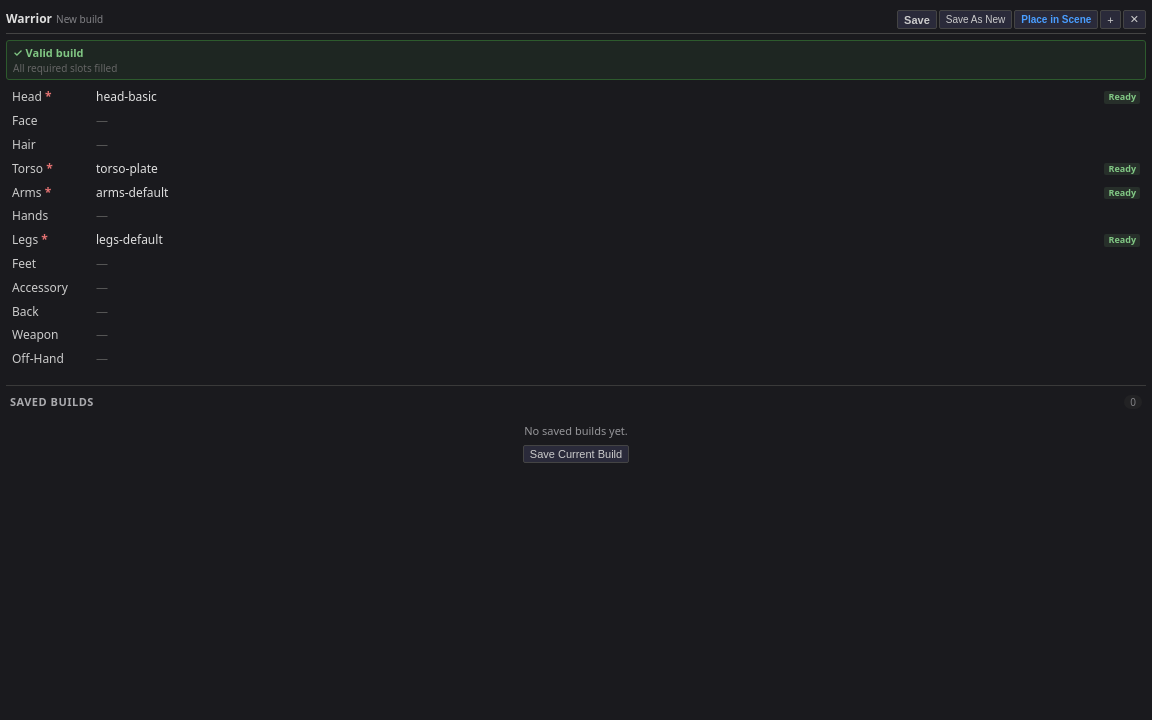
Scenario: selected slot detail › selecting a slot shows detail pane
The width and height of the screenshot is (1152, 720).
What coordinates should you click on to do the following:
click the element with test id "char-slot-head"
I would click on:
 (126, 97)
Its box is [6,86,1146,109].
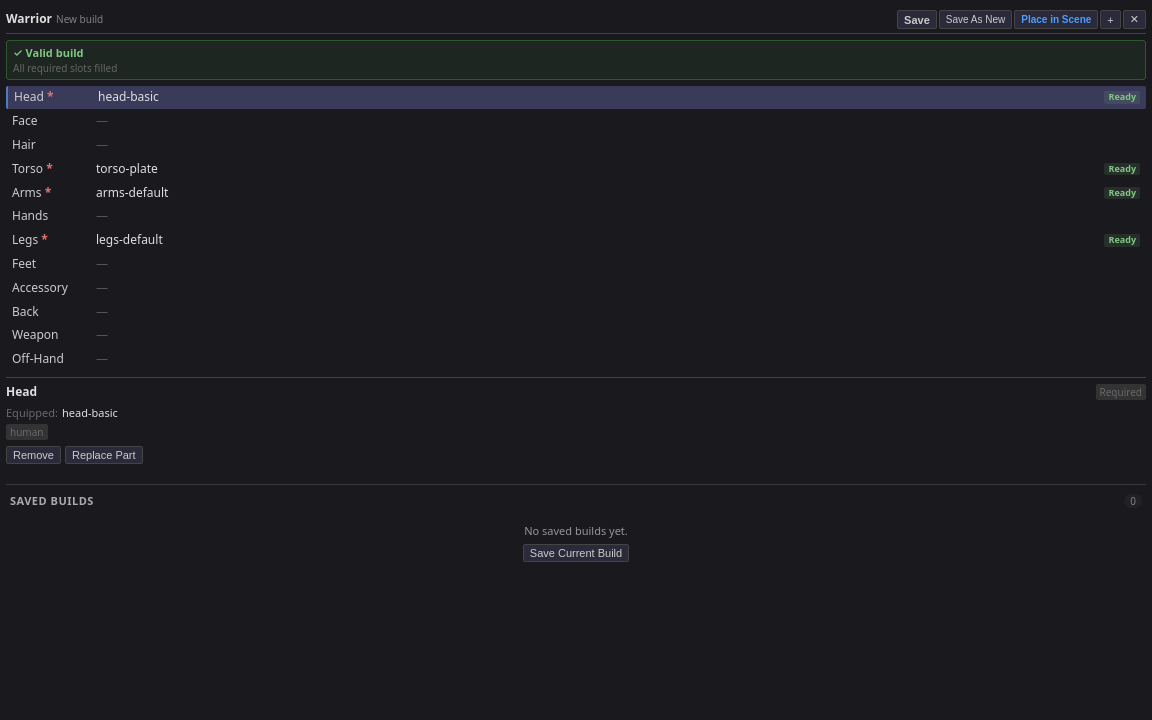
Expected: the element with test id "char-slot-detail" is shown, [6,377,1146,470]
